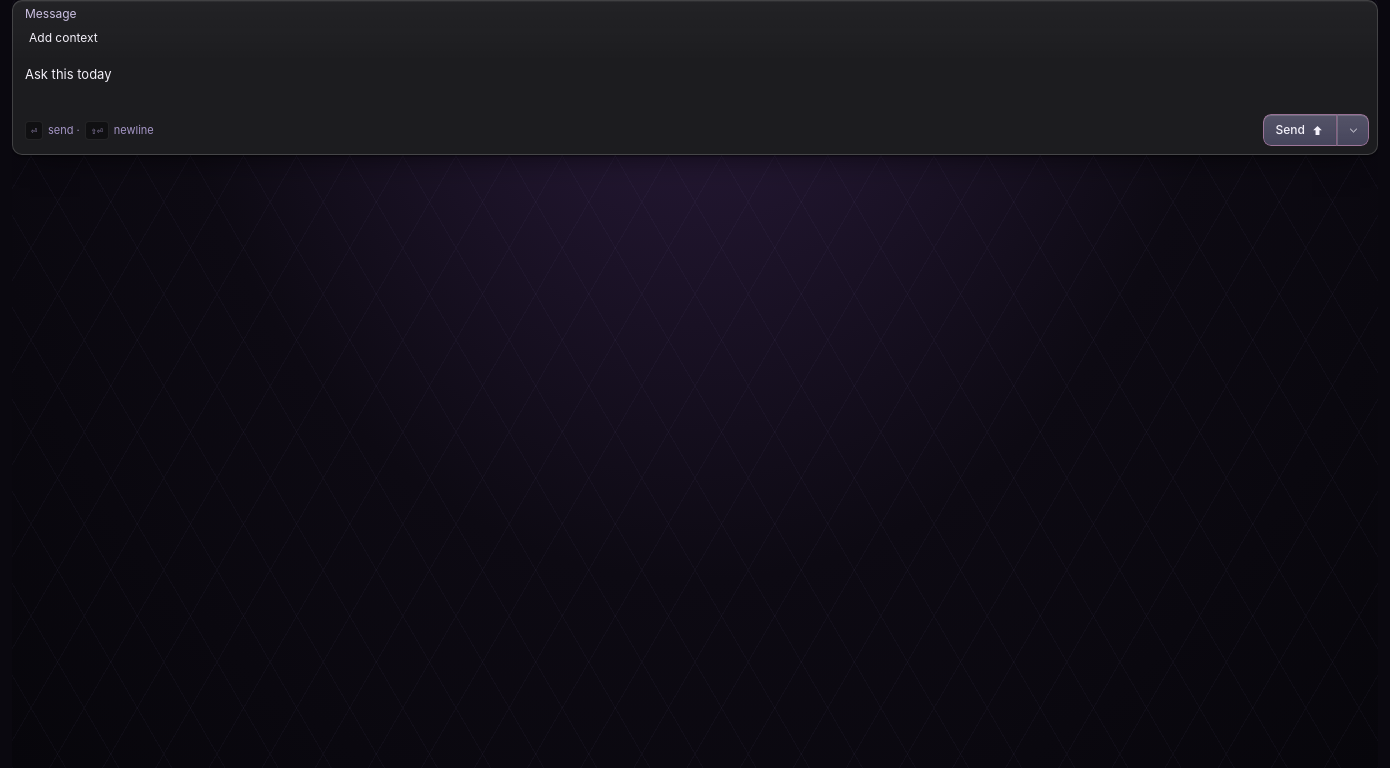
ContextPicker › supports workspace search, empty results, IME and Escape without changing a draft
Click the button "Add context" at (63, 38), box [19, 23, 108, 53]
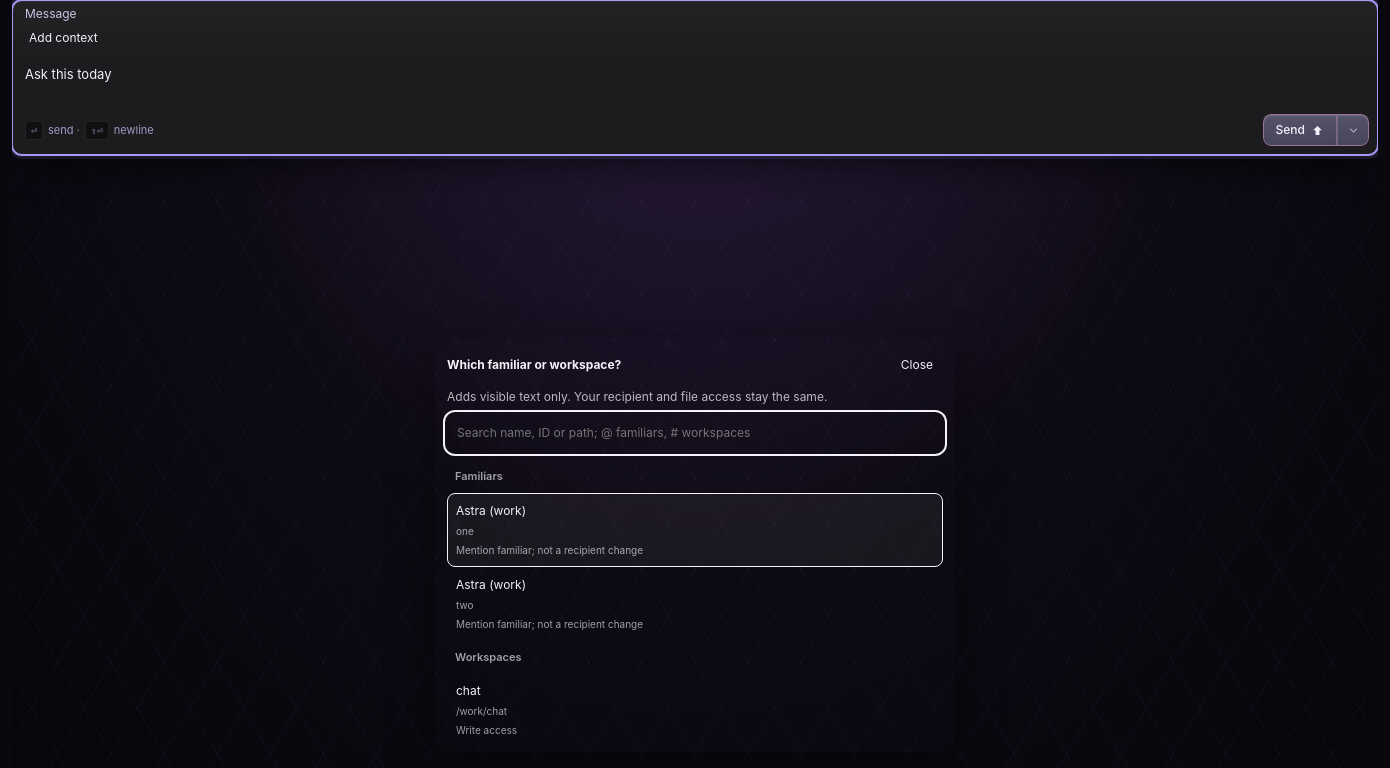
Type "#chat" into the dropdown at (695, 433), box [447, 414, 943, 452]
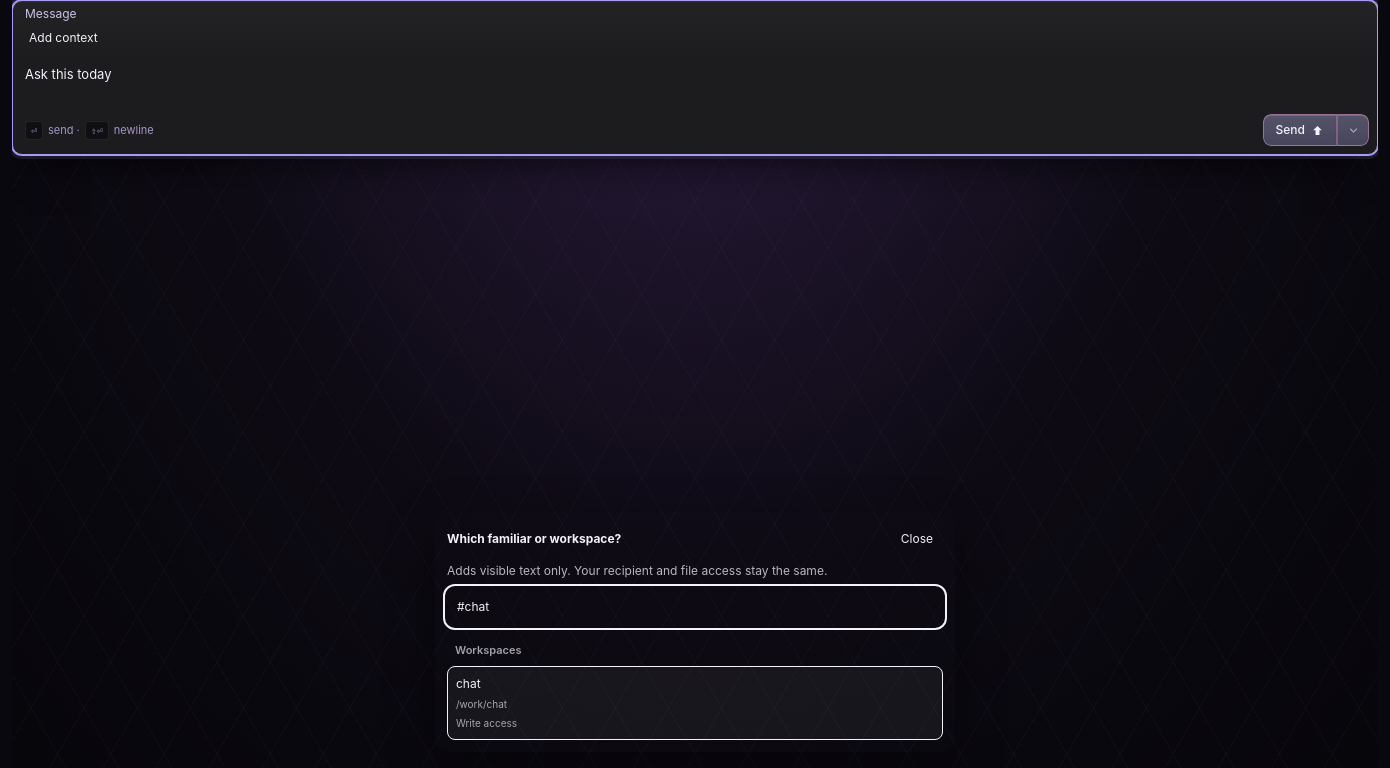
Expected: the option shows "/work/chat", [447, 666, 943, 740]
Press Enter in the dropdown, box [447, 588, 943, 626]
Replace the text in the dropdown with "unknown" at (695, 606), box [447, 588, 943, 626]
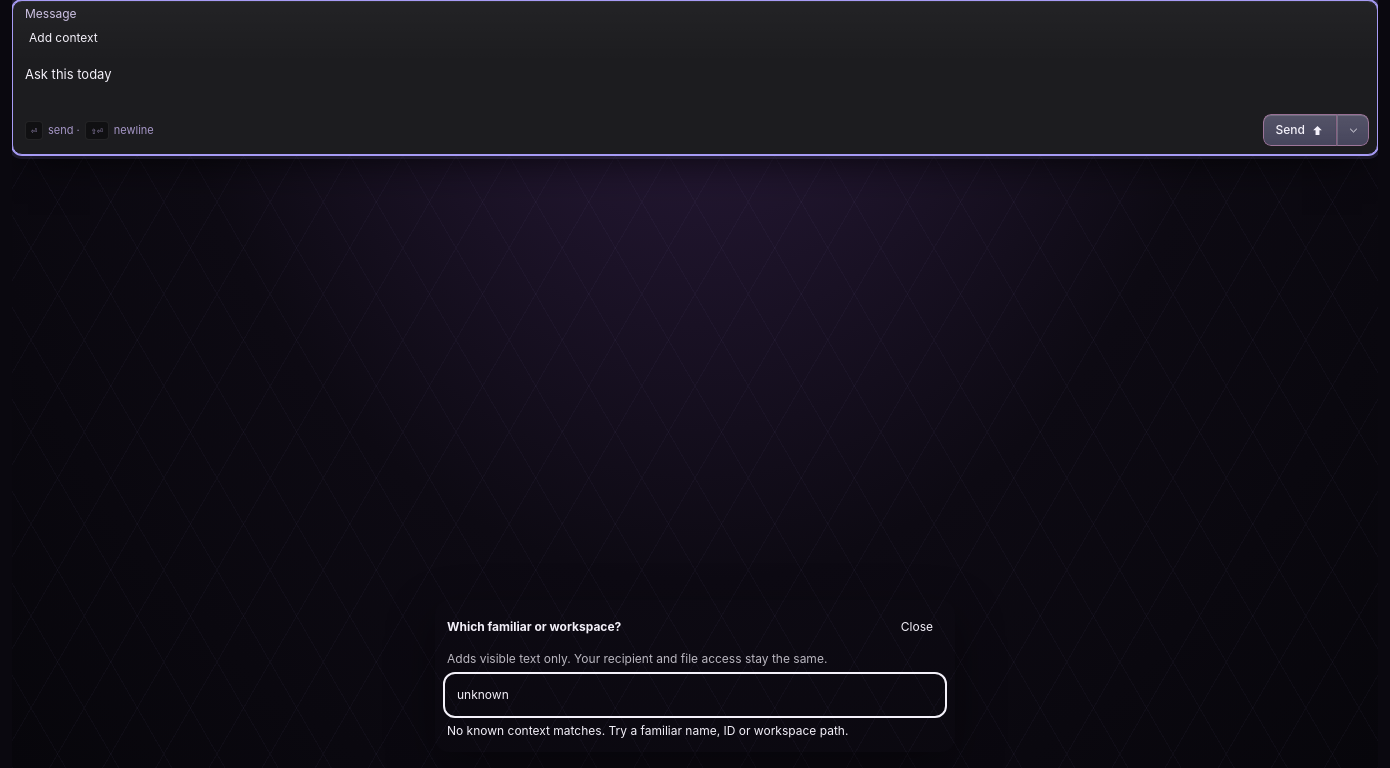
Press Enter in the dropdown, box [447, 676, 943, 714]
Expected: the text "No known context matches" is shown, [447, 723, 848, 738]
Press Escape in the dropdown, box [447, 676, 943, 714]
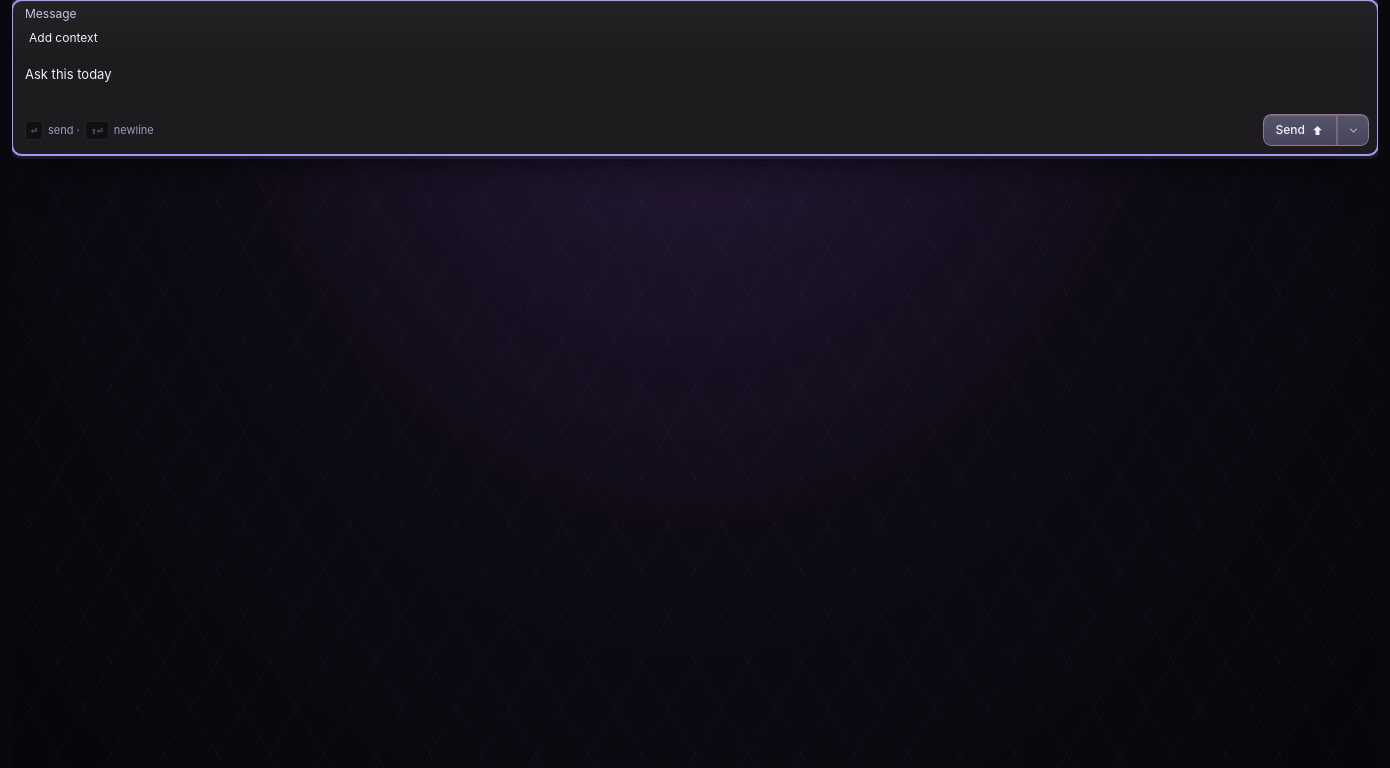
Expected: the text box holds "Ask this today", [13, 57, 1377, 110]
Expected: the dropdown is gone
